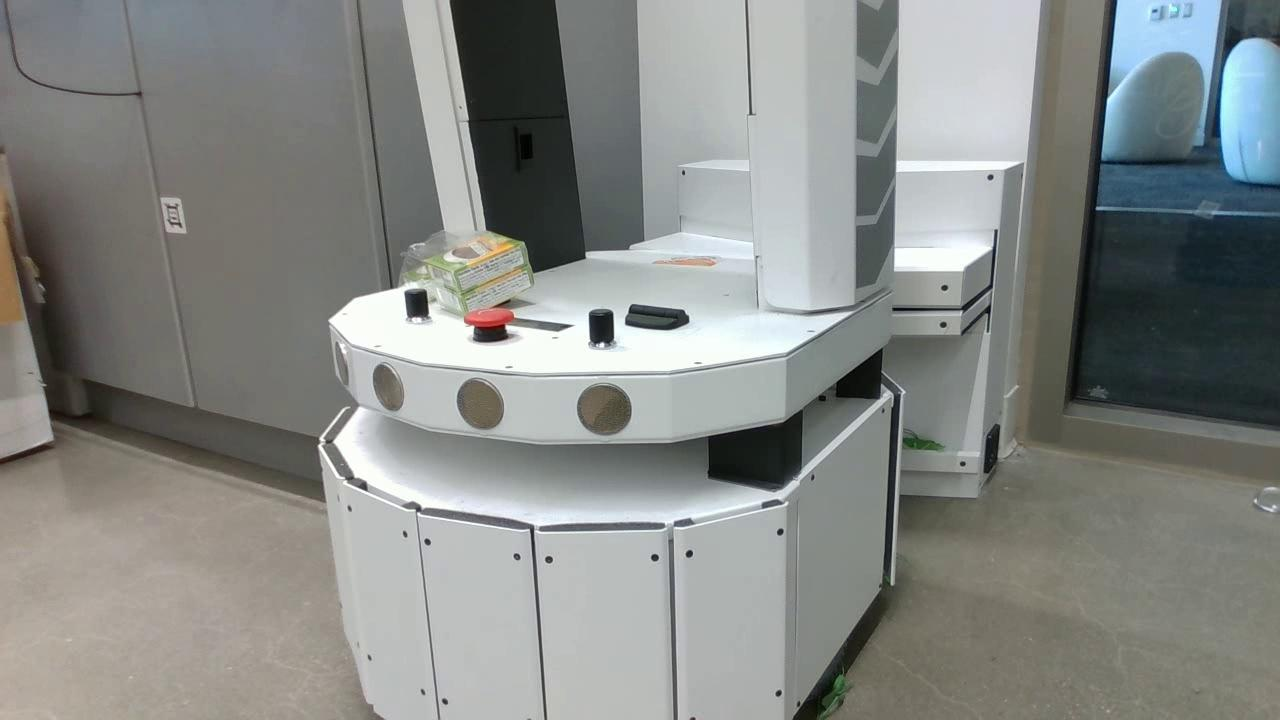grasshopper: (898, 435, 946, 454)
